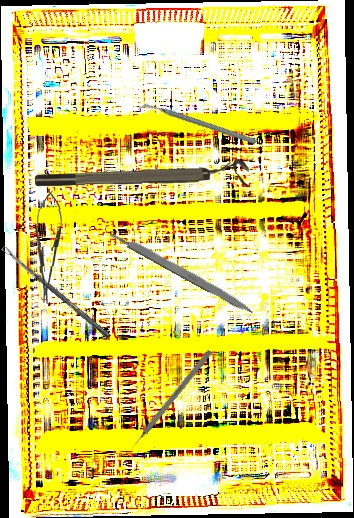Chopper: (137, 66, 258, 183)
Fixation Ring: (34, 158, 250, 191)
Hook Surgical: (127, 349, 213, 453)
Needle Holder: (31, 189, 64, 305)
Scalpel Handle: (106, 226, 258, 317)
Surgical Spoon: (1, 245, 112, 339)
